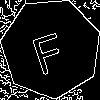F: (26, 23, 69, 77)
